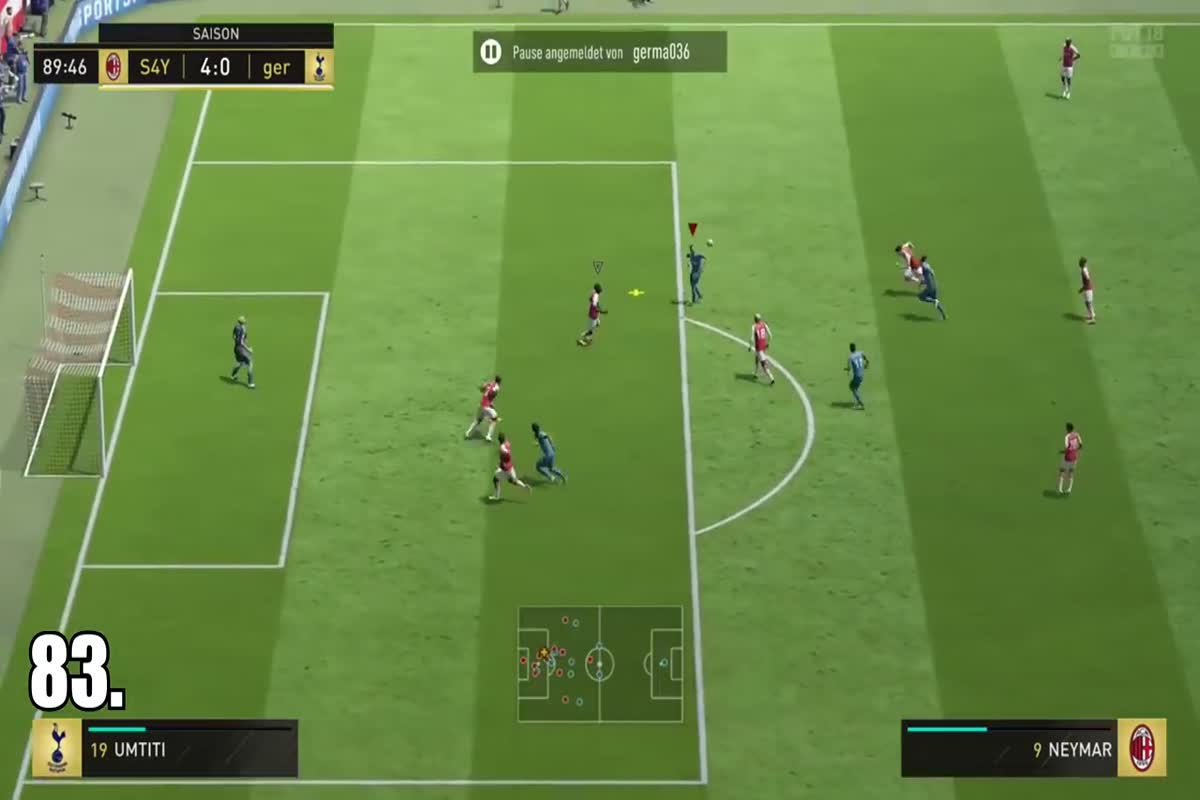ball: (702, 236, 721, 251)
